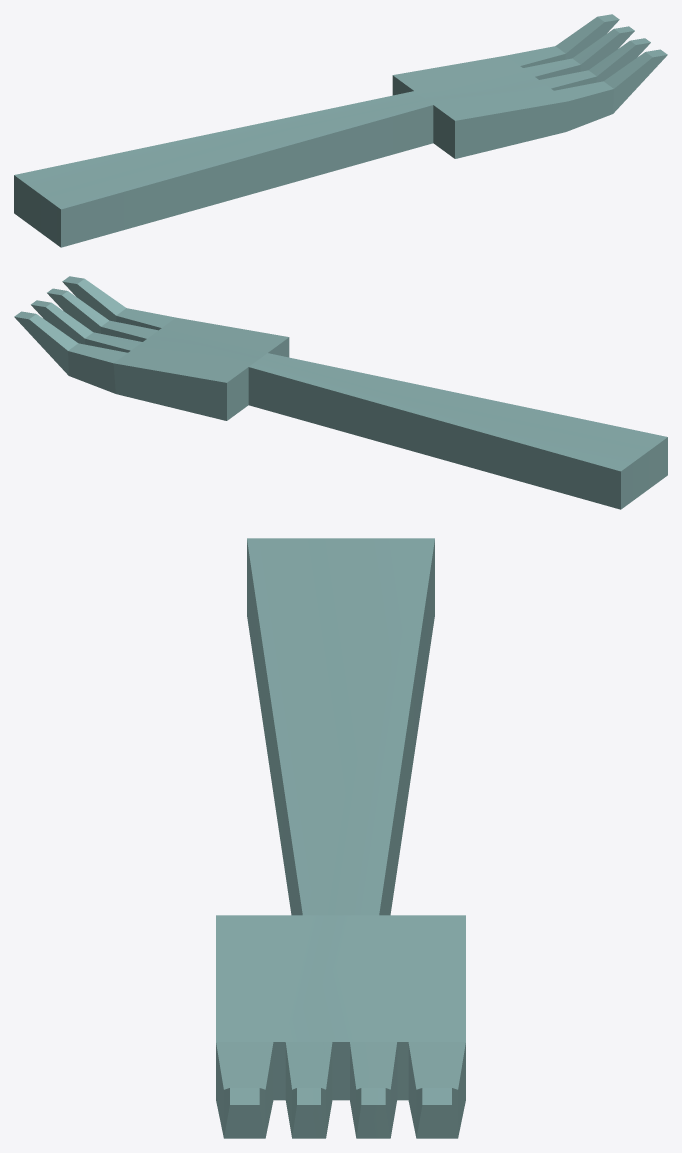
Rendered from vilka.fbx.
3 renders of one model, top to bottom at view 1: azimuth 30°, elevation 25°; view 2: azimuth 150°, elevation 25°; view 3: azimuth 270°, elevation 25°, orthographic. The views are drawn at different scales.
Parts seen in each view (by area): view 1: Cube.027; view 2: Cube.027; view 3: Cube.027.
Boxes of the visible parts, left/top/right/bottom form: Cube.027: left=14, top=14, right=667, bottom=247; Cube.027: left=14, top=276, right=667, bottom=509; Cube.027: left=216, top=538, right=465, bottom=1138.
Size of the model in its own units: 35.37 by 2.81 by 6.35.
